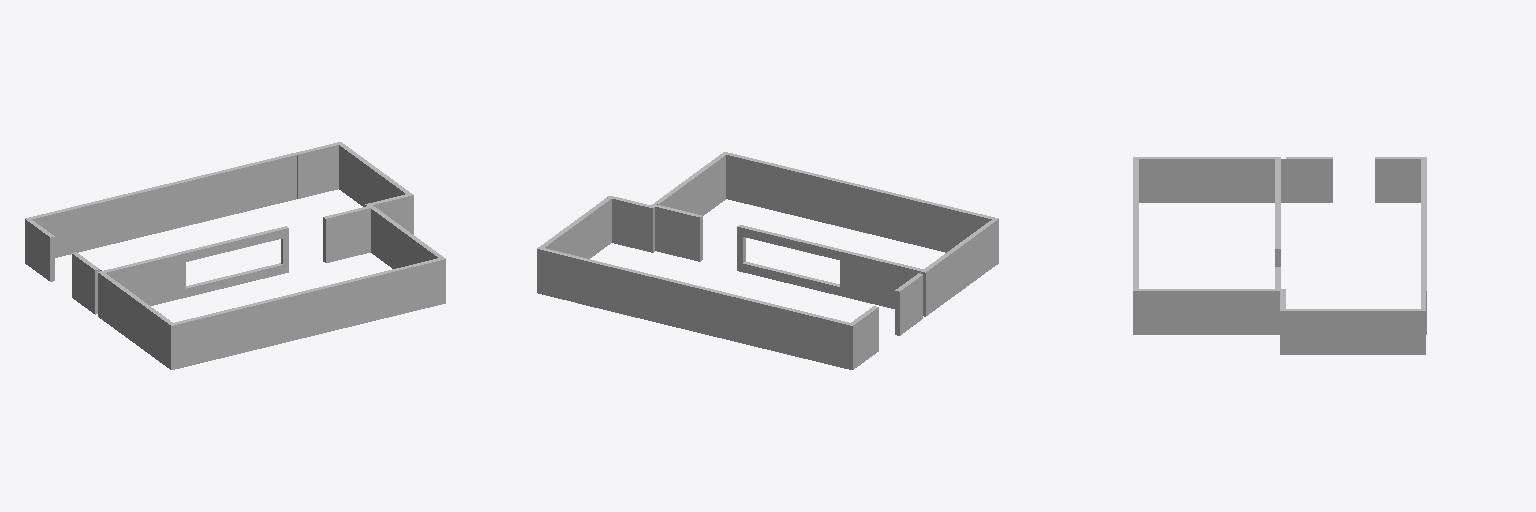
Rendered from L2Walls.obj.
3 renders of one model, left to right at view 1: azimuth 30°, elevation 25°; view 2: azimuth 150°, elevation 25°; view 3: azimuth 270°, elevation 25°, orthographic.
Parts seen in each view (by area): view 1: Walls:Walls_Mesh Walls:initialShadingGroup polySurface2 Walls:po; view 2: Walls:Walls_Mesh Walls:initialShadingGroup polySurface2 Walls:po; view 3: Walls:Walls_Mesh Walls:initialShadingGroup polySurface2 Walls:po.
Part boxes in pixels (bbox=[...]): Walls:Walls_Mesh Walls:initialShadingGroup polySurface2 Walls:po: bbox=[25, 142, 445, 369]; Walls:Walls_Mesh Walls:initialShadingGroup polySurface2 Walls:po: bbox=[537, 152, 998, 369]; Walls:Walls_Mesh Walls:initialShadingGroup polySurface2 Walls:po: bbox=[1133, 157, 1426, 354].
Size of the model in its own units: 22.35 by 3 by 17.97.